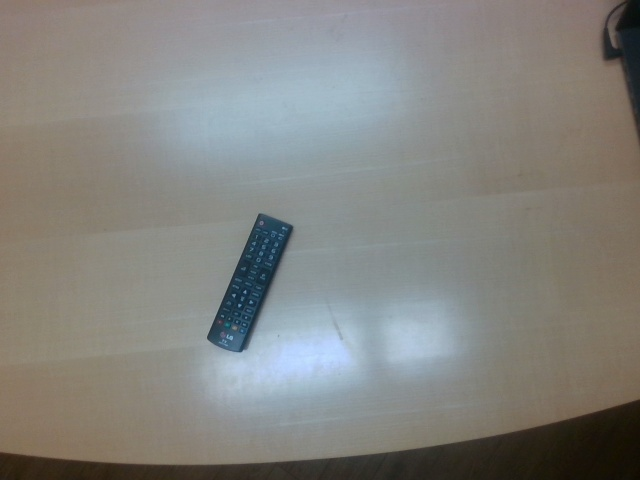remote: (207, 213, 295, 354)
